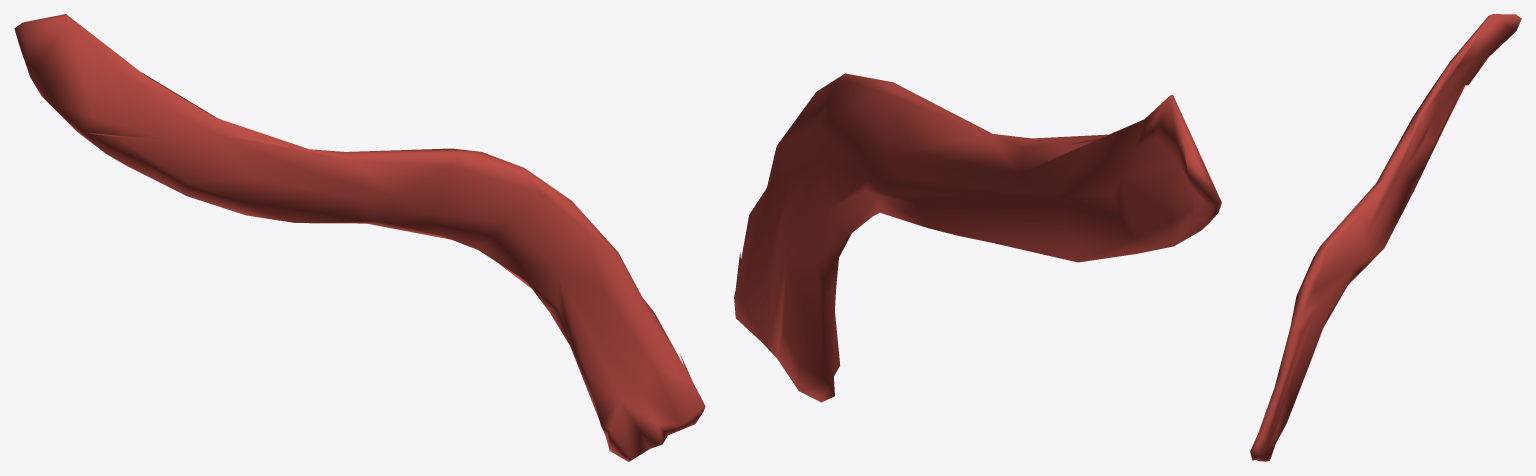
The model's file is musculos-zygomaticus-minor-muscle-r.glb.
The picture shows the model from 3 angles, left to right: view 1: azimuth 30°, elevation 25°; view 2: azimuth 150°, elevation 25°; view 3: azimuth 270°, elevation 25°; orthographic projection. The views are drawn at different scales.
Parts seen in each view (by area): view 1: Zygomaticus minor muscle.r; view 2: Zygomaticus minor muscle.r; view 3: Zygomaticus minor muscle.r.
Part boxes in pixels (x1,y1,x2,y2): Zygomaticus minor muscle.r: (14, 14, 705, 461); Zygomaticus minor muscle.r: (734, 73, 1221, 402); Zygomaticus minor muscle.r: (1250, 14, 1521, 461).
Size of the model in its own units: 0.0376 by 0.0306 by 0.0246.
